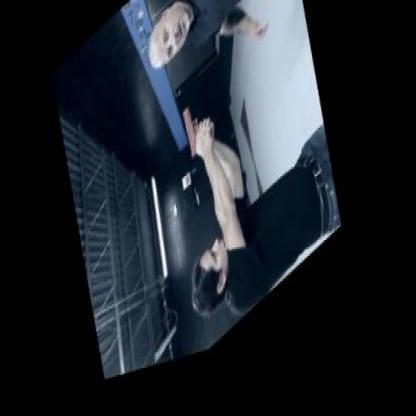pistol: (181, 108, 208, 174)
